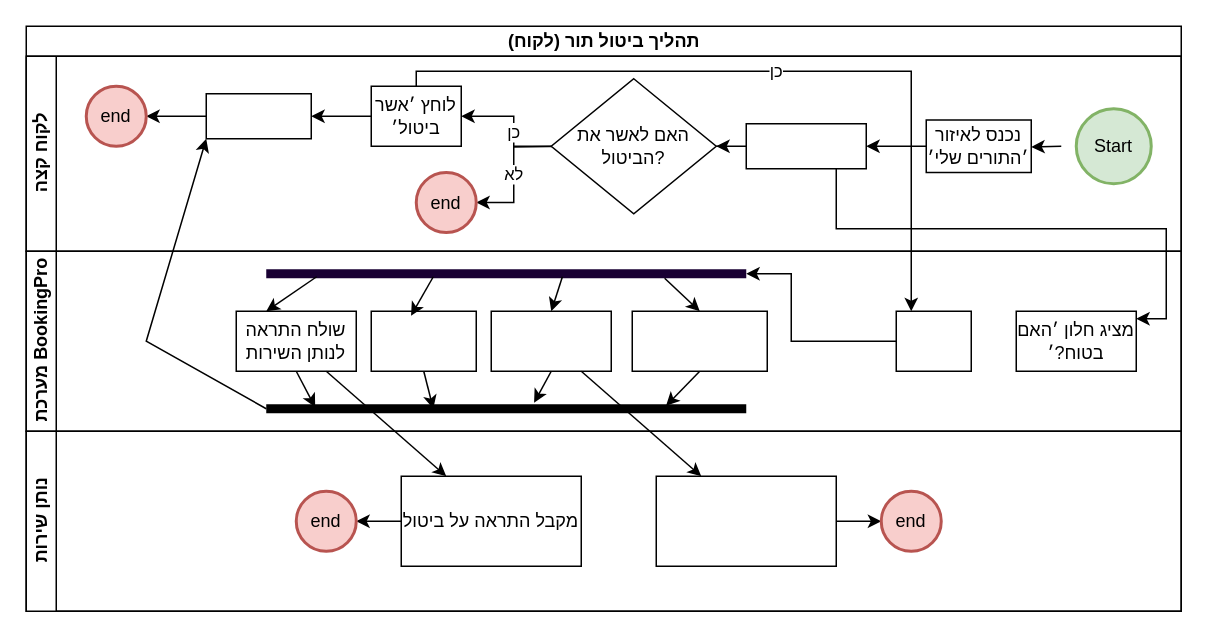
This 1208x638 diagram has some shape labels left out. The centre of each missing label's shape, as x and y in pixels:
"יומן מתעדכן (מועד פנוי)" goes at [745,520].
"מוחק תור מבסיס הנתונים" goes at [699,340].
"מוצא תור ולוחץ ׳ביטול׳" goes at [805,145].
"מעבדת ביטול" goes at [933,340].
"מקבל הודעת ׳התור בוטל׳" goes at [258,115].
"משחרר מועד ביומן" goes at [550,340].
"שולח אישור ללקוח" goes at [423,340].
